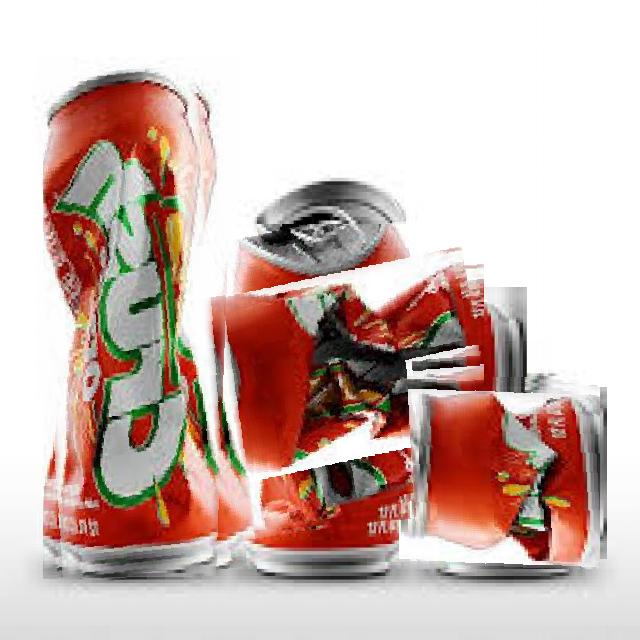recyclable: (43, 68, 235, 580), (170, 224, 484, 536), (407, 376, 600, 569)
